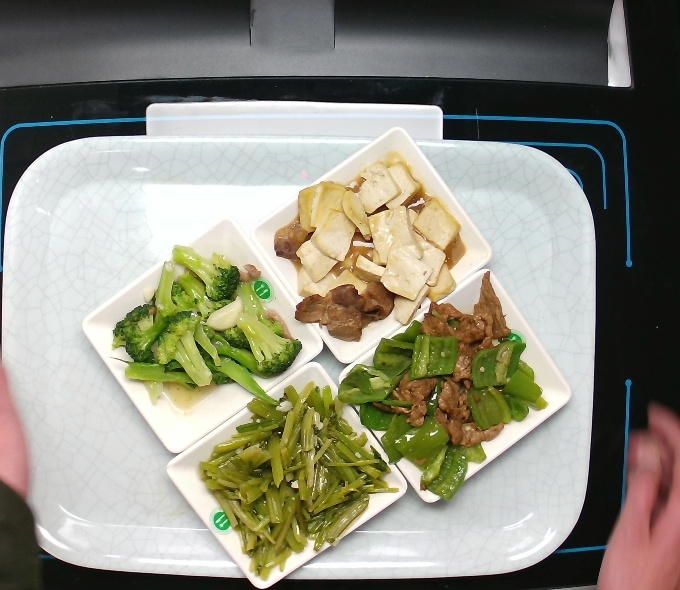wcq-DouFuRouPian: (271, 158, 471, 342)
wcq-QinCai: (194, 381, 395, 576)
wcq-QingJiaoChaoRou: (332, 272, 549, 504)
wcq-XiLanHua: (110, 244, 304, 397)
